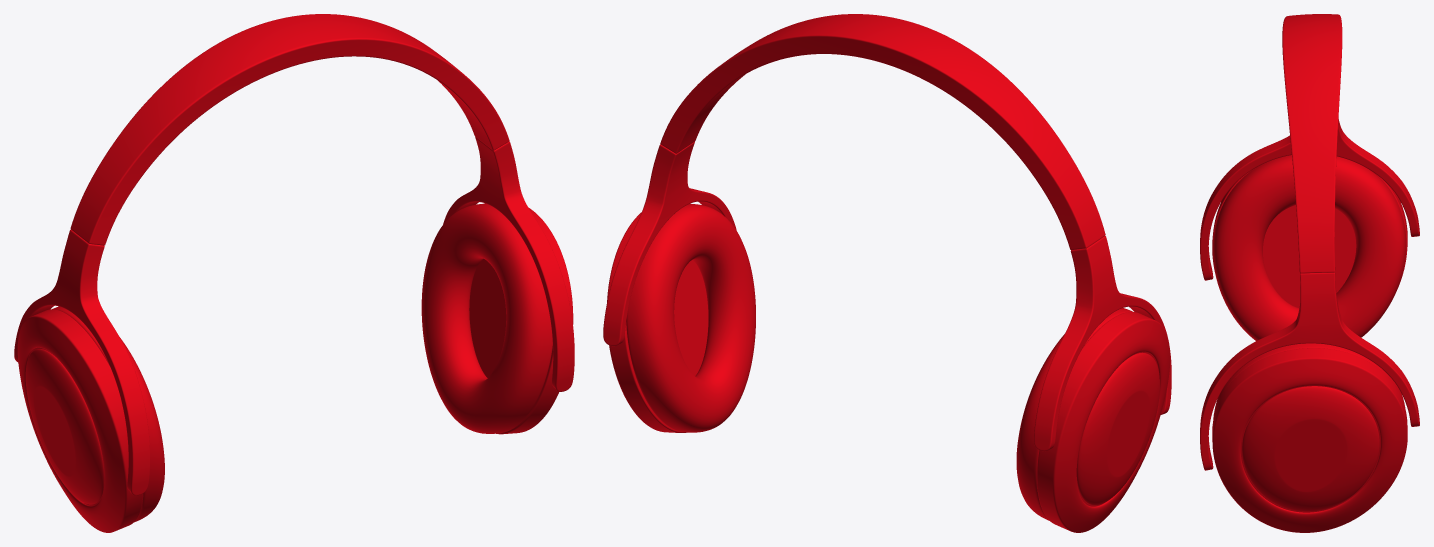
The model's file is headphones.glb.
3 views of the same model, side by side, from view 1: azimuth 30°, elevation 25°; view 2: azimuth 150°, elevation 25°; view 3: azimuth 270°, elevation 25° (orthographic). The views are drawn at different scales.
Parts seen in each view (by area): view 1: Headphone_v_1.005; view 2: Headphone_v_1.005; view 3: Headphone_v_1.005.
Part boxes in pixels (<box>): Headphone_v_1.005: <box>14,14,574,532</box>; Headphone_v_1.005: <box>603,14,1171,532</box>; Headphone_v_1.005: <box>1200,14,1419,532</box>.
Bounding box in the file's own units: 238 × 206 × 101.
